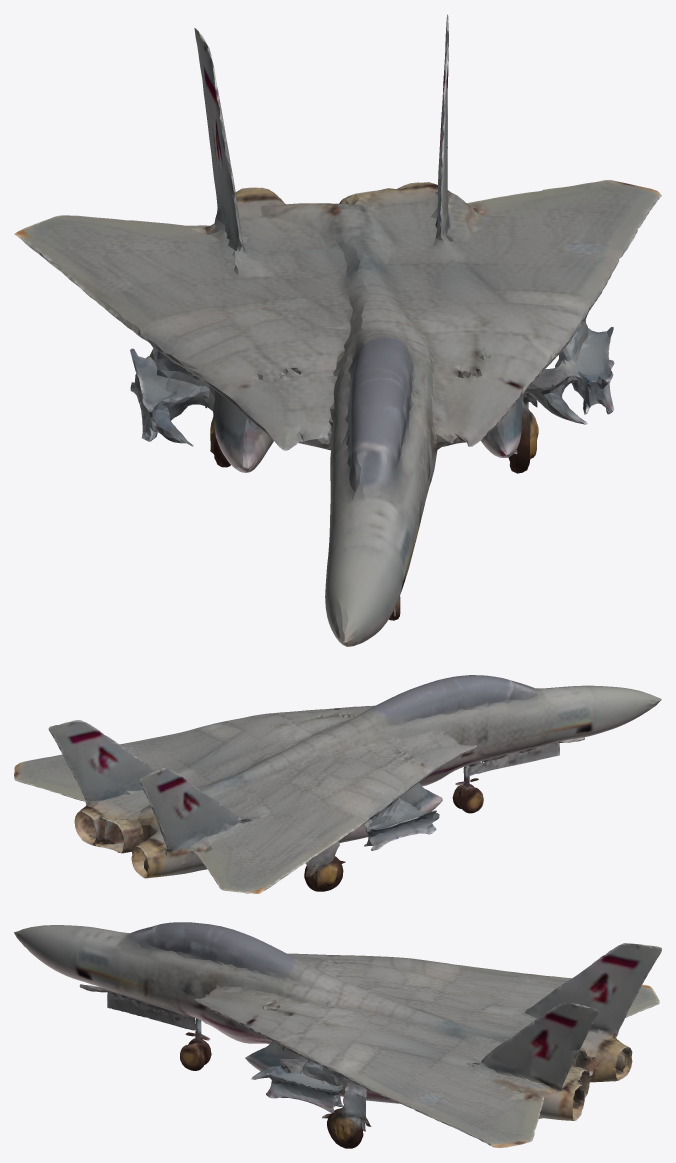
Rendered from F-14D_Super_Tomcat_AI_Rodin.glb.
3 views of the same model, one above another, from view 1: azimuth 30°, elevation 25°; view 2: azimuth 150°, elevation 25°; view 3: azimuth 270°, elevation 25° (orthographic). The views are drawn at different scales.
Visible parts, largest first — view 1: model; view 2: model; view 3: model.
Boxes of the visible parts, left/top/right/bottom form: model: left=14, top=14, right=661, bottom=646; model: left=14, top=675, right=661, bottom=893; model: left=14, top=922, right=661, bottom=1148.
Size of the model in its own units: 1.5 by 0.5752 by 1.9.
Materials: 1 (1 with a texture image).
